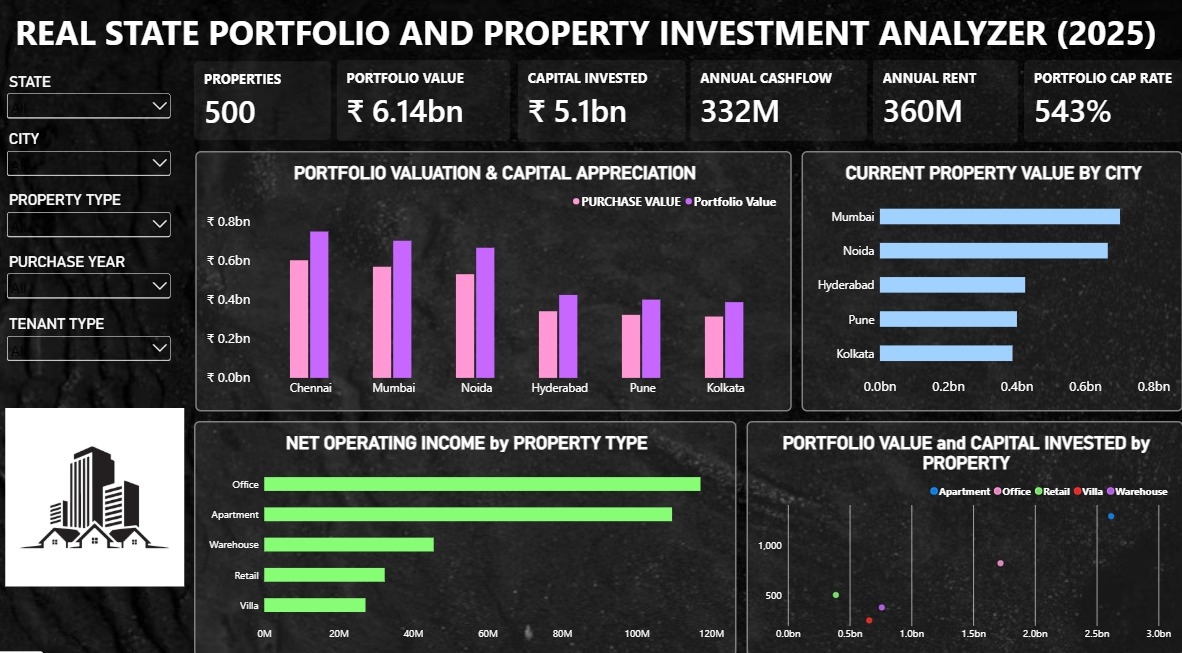

The page's visual inventory and layout, read from the dashboard file:
{"tool":"powerbi","page":{"name":"Portfolio Overview","canvas":[1920,1080],"ordinal":0},"visuals":[{"type":"cardVisual","title":"TOTAL INITIAL CAPITAL INVESTED","fields":{"Data":["Sum(Property Financial Analysis.Initial_ Investment)"]},"box":[821.2,96.5,301.2,162.4],"z":0},{"type":"cardVisual","title":"TOTAL PORTFOLIO VALUE","fields":{"Data":["Sum(Property Master.Current_Value)"]},"box":[531.8,96.5,310.6,160],"z":1000},{"type":"textbox","box":[18.6,14.5,1884.9,105.3],"z":2000},{"type":"clusteredColumnChart","title":"PORTFOLIO VALUATION & CAPITAL APPRECIATION","fields":{"Category":["Property Master.City"],"Y":["Sum(Property Financial Analysis.Purchase_Price)","Sum(Property Master.Current_Value)"]},"box":[321,255.1,954.6,416.7],"z":3000},{"type":"cardVisual","title":"AVERAGE RETURN ON INVESTMENT","fields":{"Data":["Sum(Property Financial Analysis.Annual_Rent)"]},"box":[1390.6,96.5,265.9,164.7],"z":4000},{"type":"barChart","title":"CURRENT PROPERTY VALUE BY CITY","fields":{"Category":["Property Master.City"],"Y":["Sum(Property Master.Current_Value)"]},"box":[1292.6,255.1,610.2,416.7],"z":5000},{"type":"cardVisual","title":"ANNUAL CASHFLOW","fields":{"Data":["Sum(Property Financial Analysis.Annual_Cash_Flow)"]},"box":[1098.8,96.5,315.3,160],"z":6000},{"type":"cardVisual","title":" AND CAP RATE","fields":{"Data":["Avg(Property Financial Analysis.Cap_Rate)"]},"box":[1632.9,96.5,287.1,162.4],"z":7000},{"type":"cardVisual","title":" AND CAP RATE","fields":{"Data":["Count(Property Financial Analysis.Property_ID)"]},"box":[303.5,98.8,251.8,157.6],"z":8000},{"type":"slicer","fields":{"Values":["Property Master.State"]},"box":[0,115.3,303.5,98.8],"z":9000},{"type":"slicer","fields":{"Values":["Property Master.City"]},"box":[0,207.1,303.5,98.8],"z":10000},{"type":"slicer","fields":{"Values":["Property Master.Property_Type"]},"box":[0,305.9,303.5,98.8],"z":11000},{"type":"slicer","fields":{"Values":["Property Master.Property_Type"]},"box":[0,404.7,303.5,98.8],"z":12000},{"type":"barChart","fields":{"Category":["Property Financial Analysis.Property_Type"],"Y":["Sum(Property Financial Analysis.Net_Operating_Income)"]},"box":[320,687.1,868.2,376.5],"z":13000},{"type":"scatterChart","fields":{"Series":["Property Financial Analysis.Property_Type"],"X":["Sum(Property Master.Current_Value)"],"Y":["Sum(Property Financial Analysis.Return_on_Investment)"]},"box":[1204.7,687.1,698.8,376.5],"z":14000},{"type":"slicer","fields":{"Values":["Rental Income Table.Tenant_Type"]},"box":[0,503.5,303.5,98.8],"z":15000},{"type":"image","box":[18,540,286,540],"z":15001}]}

Visuals, with their boxes in screenshot pixels (x1, y1, x2, y2), scaled from the page's 1920x1080 canvas onto the 1182x653 screenshot:
"TOTAL INITIAL CAPITAL INVESTED" cardVisual: x1=506 y1=58 x2=691 y2=157
"TOTAL PORTFOLIO VALUE" cardVisual: x1=327 y1=58 x2=519 y2=155
textbox: x1=11 y1=9 x2=1172 y2=72
"PORTFOLIO VALUATION & CAPITAL APPRECIATION" clusteredColumnChart: x1=198 y1=154 x2=785 y2=406
"AVERAGE RETURN ON INVESTMENT" cardVisual: x1=856 y1=58 x2=1020 y2=158
"CURRENT PROPERTY VALUE BY CITY" barChart: x1=796 y1=154 x2=1171 y2=406
"ANNUAL CASHFLOW" cardVisual: x1=676 y1=58 x2=871 y2=155
" AND CAP RATE" cardVisual: x1=1005 y1=58 x2=1181 y2=157
" AND CAP RATE" cardVisual: x1=187 y1=60 x2=342 y2=155
slicer - Property Master.State: x1=0 y1=70 x2=187 y2=129
slicer - Property Master.City: x1=0 y1=125 x2=187 y2=185
slicer - Property Master.Property_Type: x1=0 y1=185 x2=187 y2=245
slicer - Property Master.Property_Type: x1=0 y1=245 x2=187 y2=304
barChart - Property Financial Analysis.Property_Type x Sum(Property Financial Analysis.Net_Operating_Income): x1=197 y1=415 x2=731 y2=643
scatterChart - Property Financial Analysis.Property_Type x Sum(Property Master.Current_Value): x1=742 y1=415 x2=1172 y2=643
slicer - Rental Income Table.Tenant_Type: x1=0 y1=304 x2=187 y2=364
image: x1=11 y1=326 x2=187 y2=652
